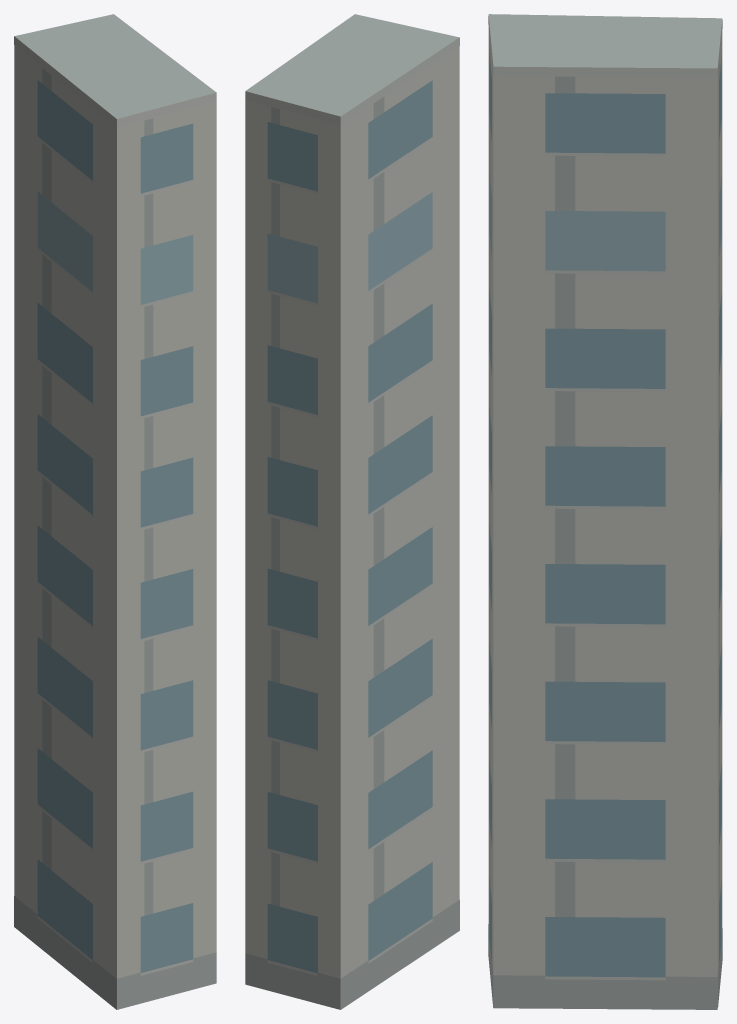
The model's file is survey-upis-32760726.glb.
3 renders of one model, left to right at view 1: azimuth 30°, elevation 25°; view 2: azimuth 150°, elevation 25°; view 3: azimuth 270°, elevation 25°, orthographic. The views are drawn at different scales.
Visible parts, largest first — view 1: survey-upis-32760726.tmp; view 2: survey-upis-32760726.tmp; view 3: survey-upis-32760726.tmp.
Part boxes in pixels (x1,y1,x2,y2): survey-upis-32760726.tmp: [14, 14, 216, 1009]; survey-upis-32760726.tmp: [245, 14, 459, 1009]; survey-upis-32760726.tmp: [488, 14, 722, 1009].
Size of the model in its own units: 3.03 by 24.4 by 5.5.
